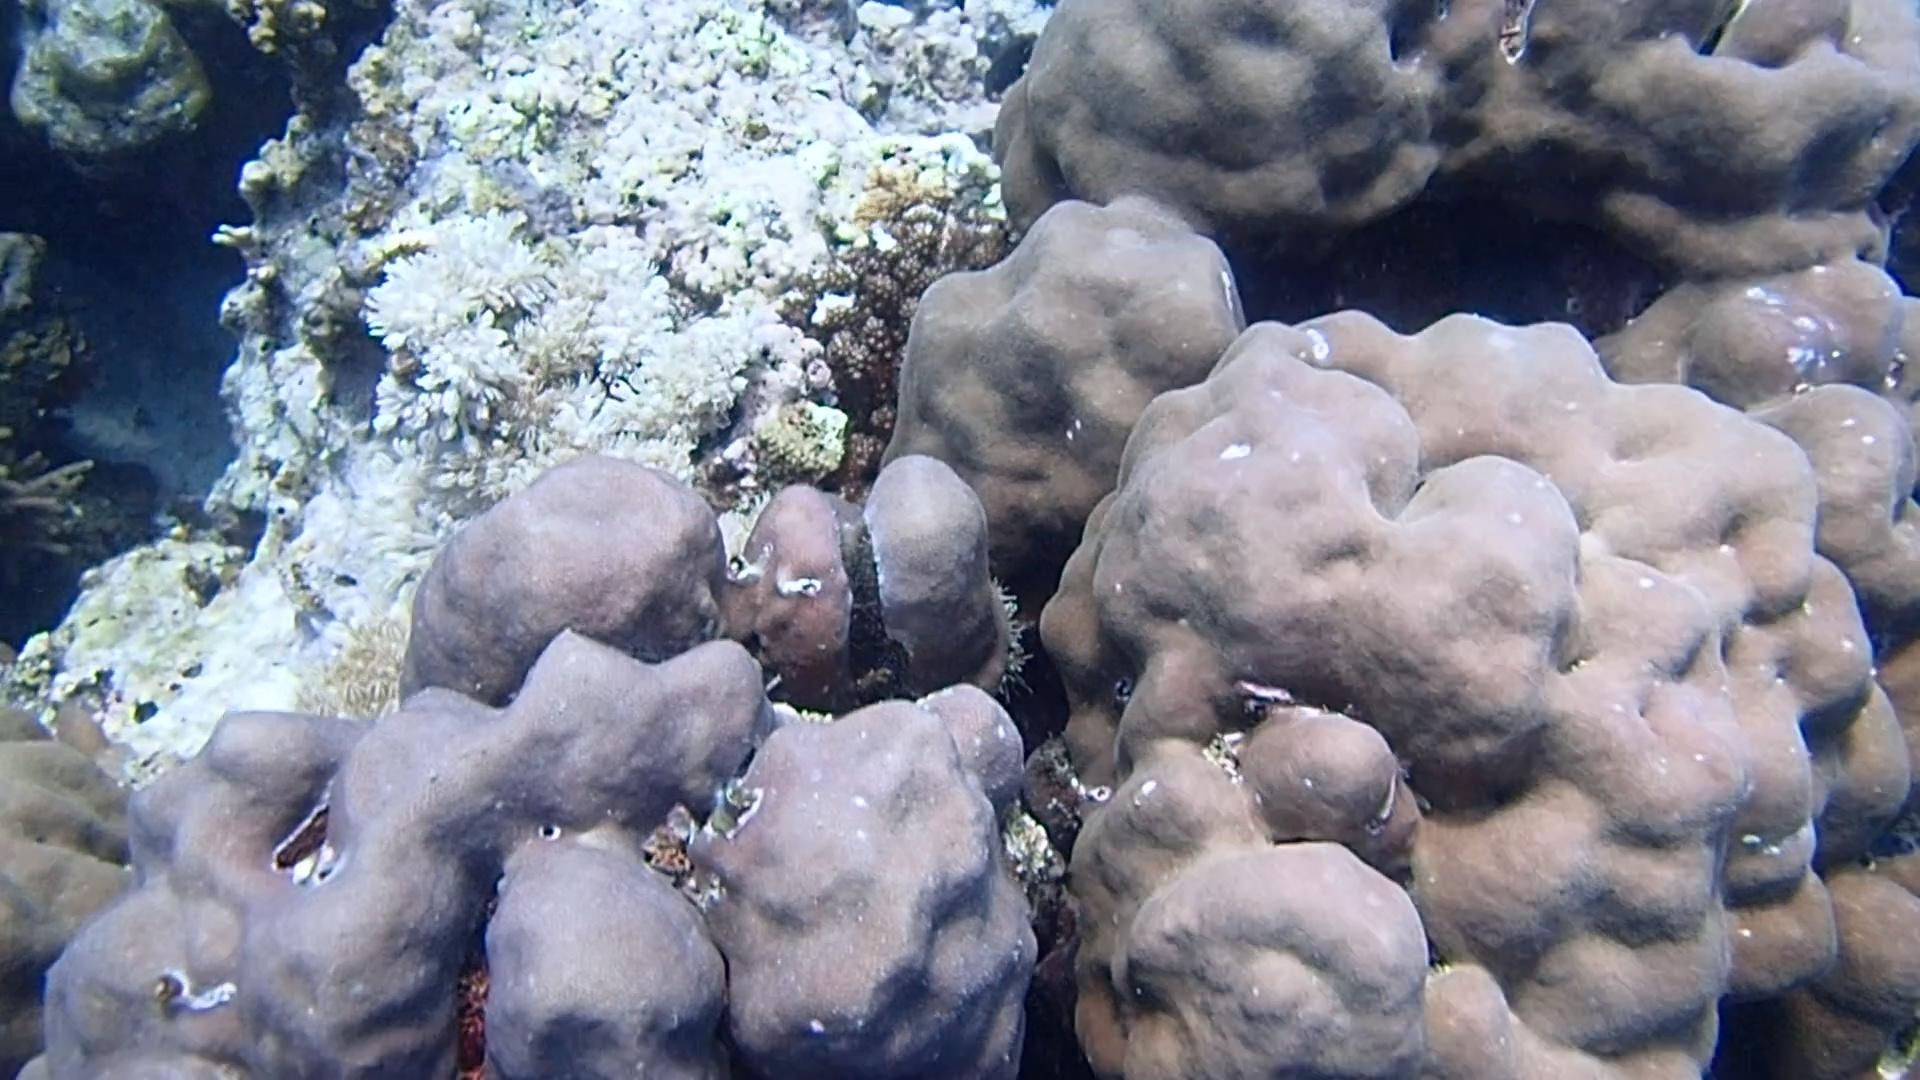Dark Fish: (976, 37, 1038, 104)
